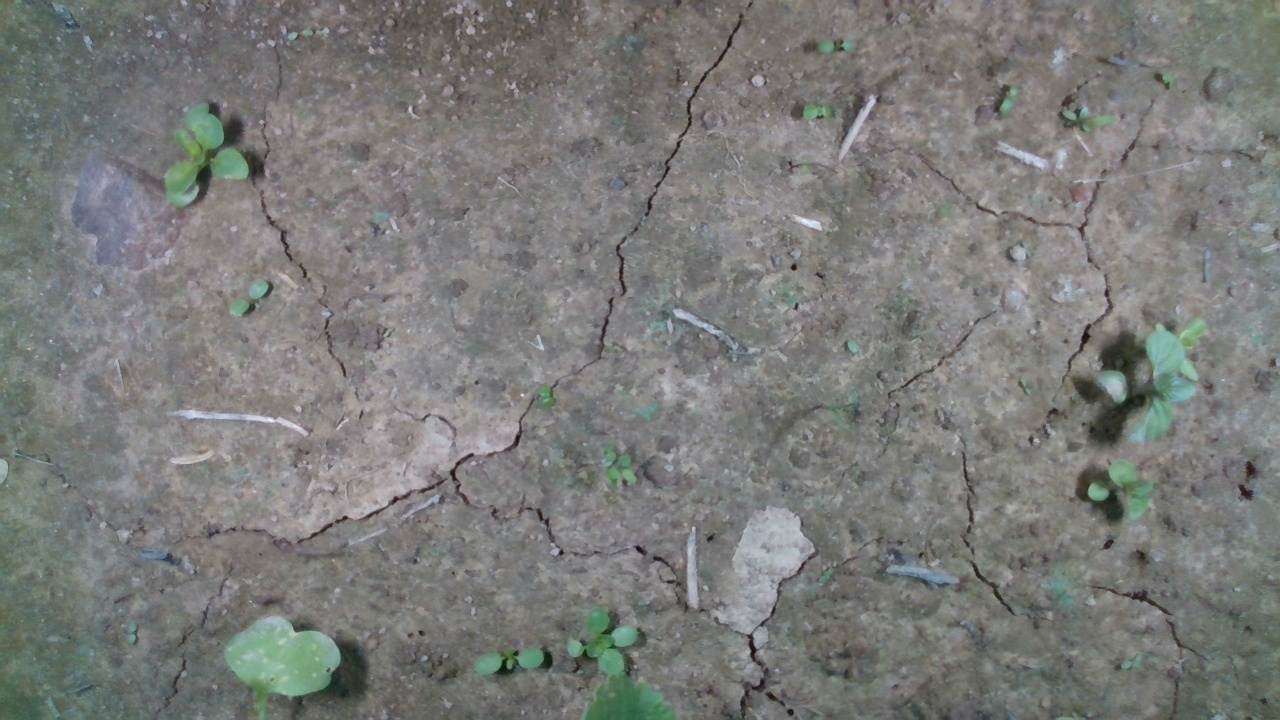weed: (472, 642, 545, 677), (228, 278, 271, 318), (815, 37, 859, 55), (999, 84, 1019, 116), (801, 103, 833, 122)
